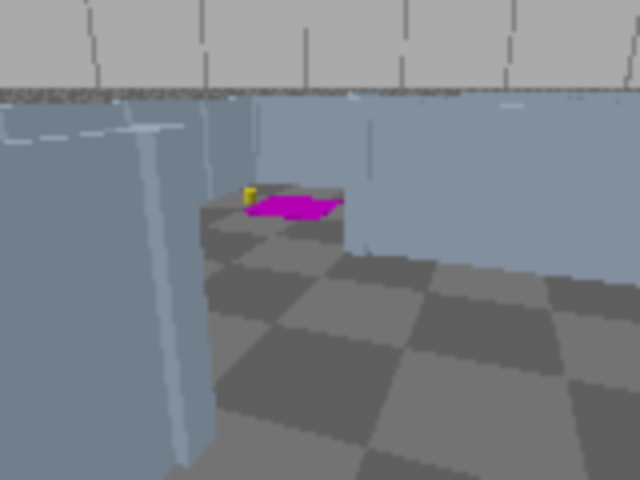goal_zone: (239, 195, 344, 221)
